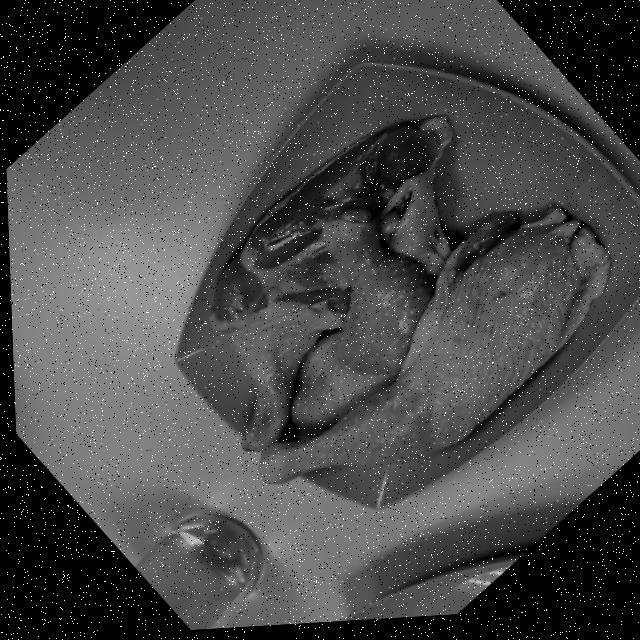quater: (272, 215, 600, 486), (210, 116, 443, 298)
